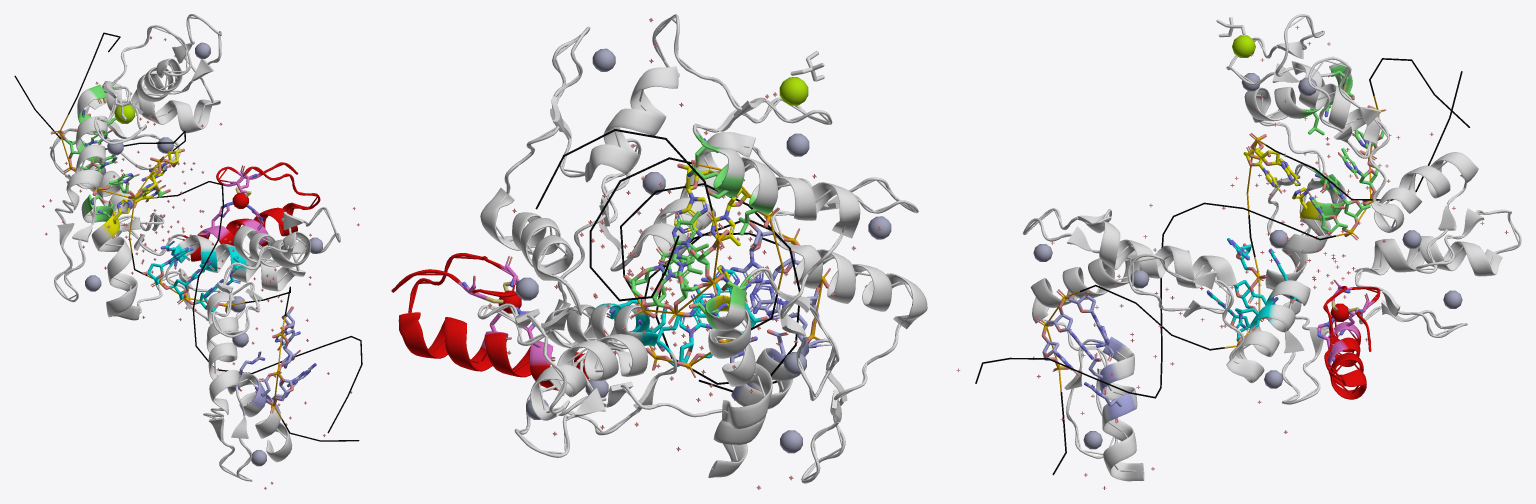
File: model_of_zinc_fingers_in_the_zfp568dna_complex.glb
3 renders of one model, left to right at view 1: azimuth 30°, elevation 25°; view 2: azimuth 150°, elevation 25°; view 3: azimuth 270°, elevation 25°, orthographic. The views are drawn at different scales.
Parts seen in each view (by area): view 1: geom850-material, geom849-material, geom851-material; view 2: geom850-material, geom849-material, geom851-material, geom848-material; view 3: geom850-material, geom849-material, geom851-material.
Boxes of the visible parts, x1,y1,x2,y2 form: geom850-material: (54, 84, 340, 395); geom849-material: (50, 14, 320, 261); geom851-material: (203, 294, 292, 481); geom850-material: (543, 123, 921, 435); geom849-material: (391, 14, 832, 457); geom851-material: (708, 241, 927, 483); geom848-material: (779, 77, 808, 105); geom850-material: (1022, 62, 1352, 404); geom849-material: (1226, 14, 1521, 399); geom851-material: (1030, 254, 1144, 481).
Bounding box in the file's own units: 57.24 × 72.91 × 81.27.
